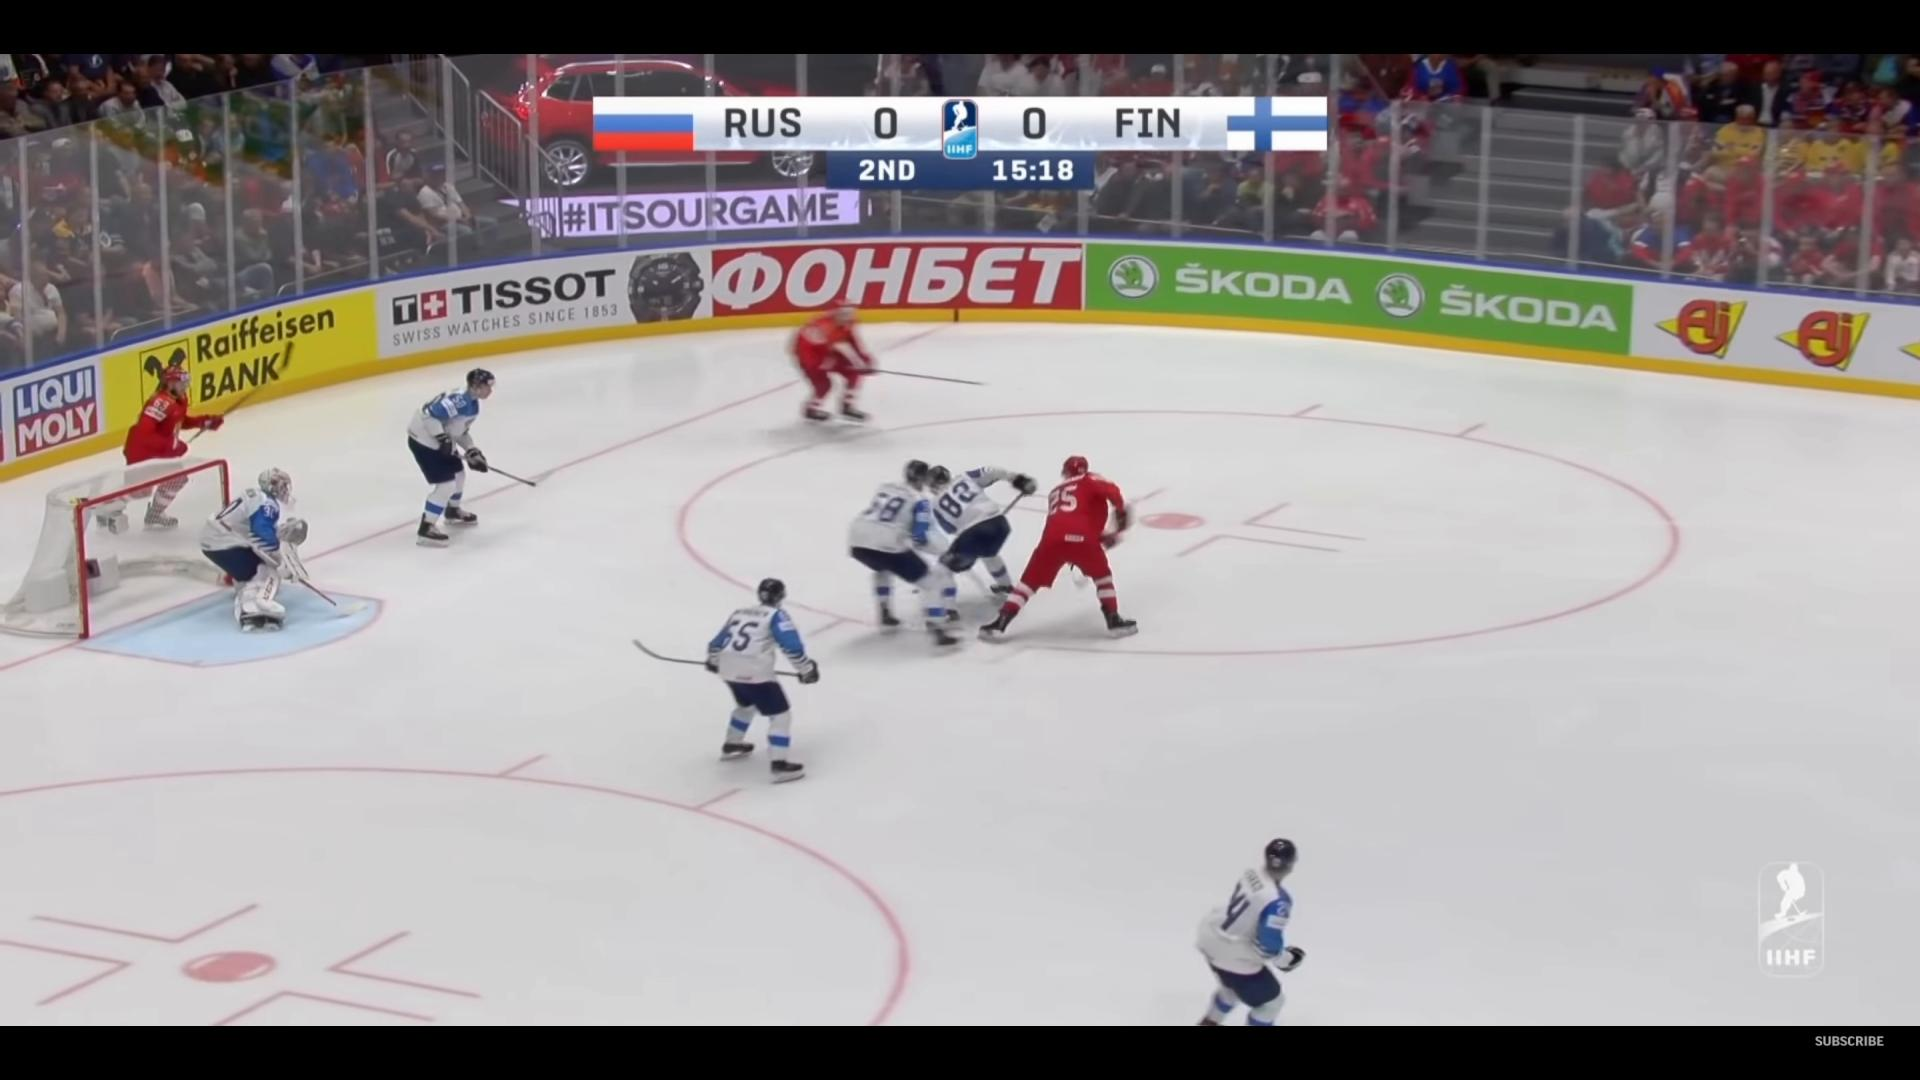puck: (911, 588, 919, 593)
